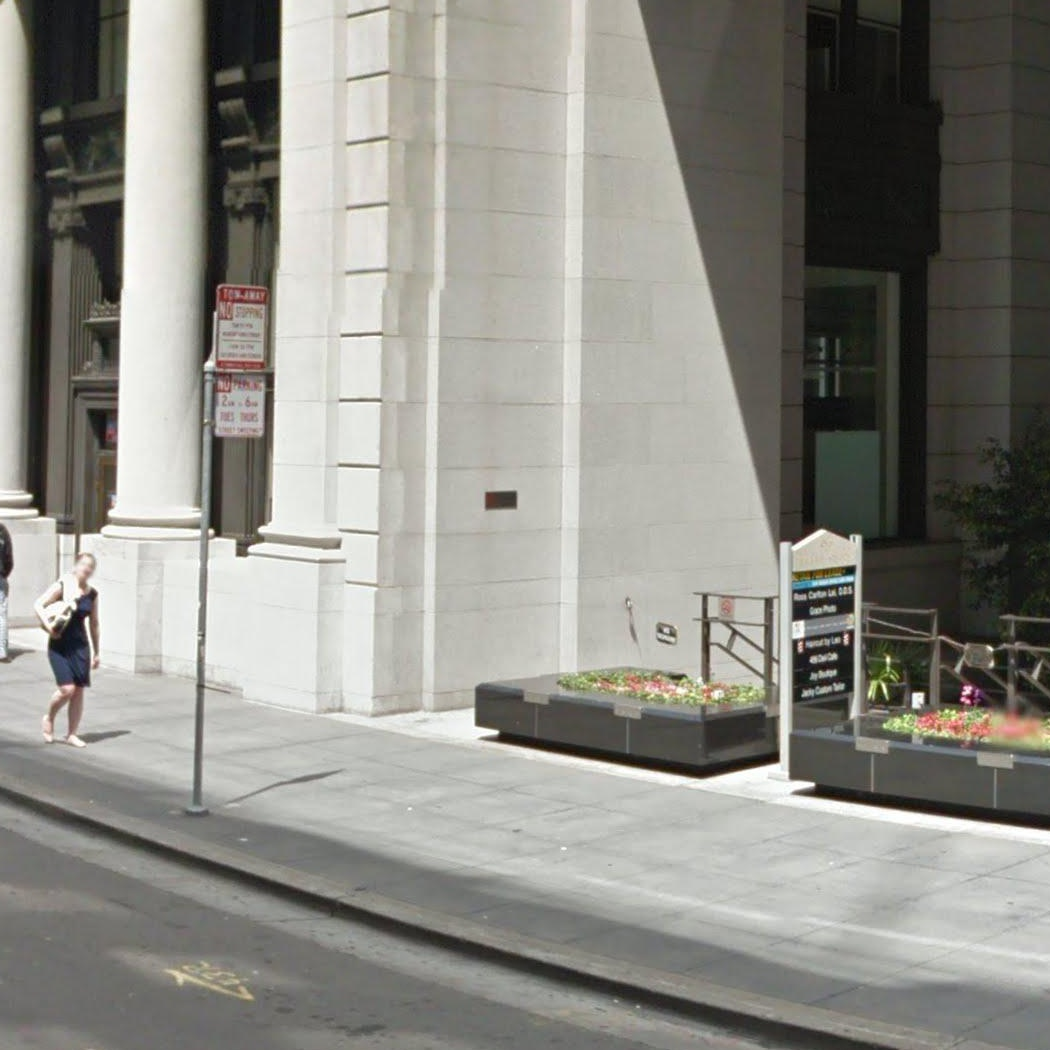No Parking: (216, 283, 268, 372), (212, 372, 266, 438)
